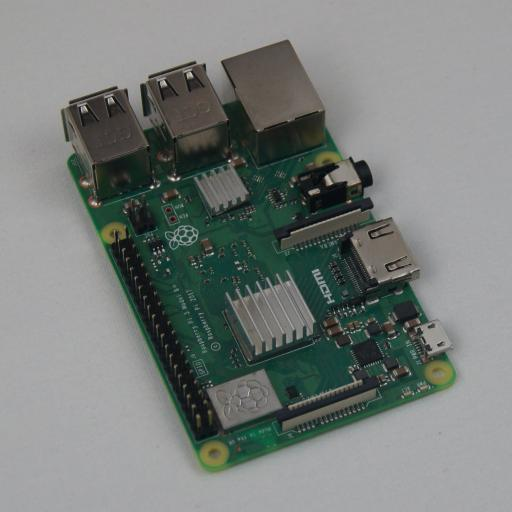Raspberry Pi 3 B-: (61, 40, 456, 469)
